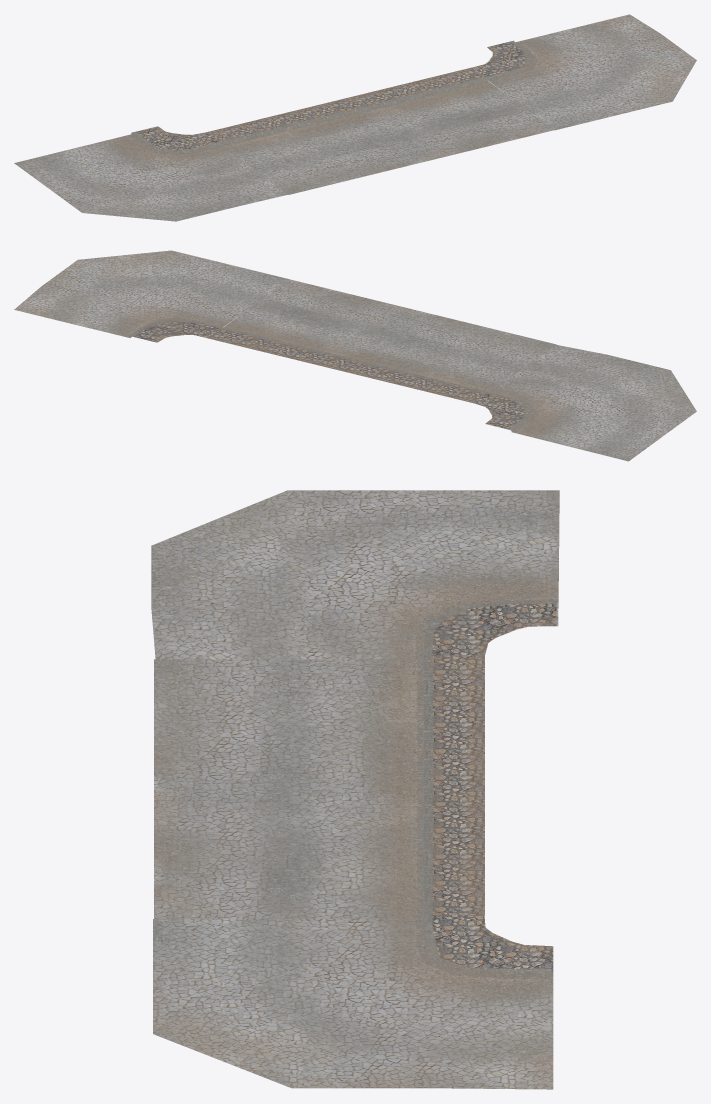
The model's file is Allroad.fbx.
3 renders of one model, top to bottom at view 1: azimuth 30°, elevation 25°; view 2: azimuth 150°, elevation 25°; view 3: azimuth 270°, elevation 25°, orthographic. The views are drawn at different scales.
Parts seen in each view (by area): view 1: polySurface818; view 2: polySurface818; view 3: polySurface818.
Boxes of the visible parts, left/top/right/bottom form: polySurface818: left=14, top=14, right=696, bottom=221; polySurface818: left=14, top=250, right=696, bottom=461; polySurface818: left=151, top=490, right=559, bottom=1089.
Size of the model in its own units: 6980 by 23.37 by 2004.
